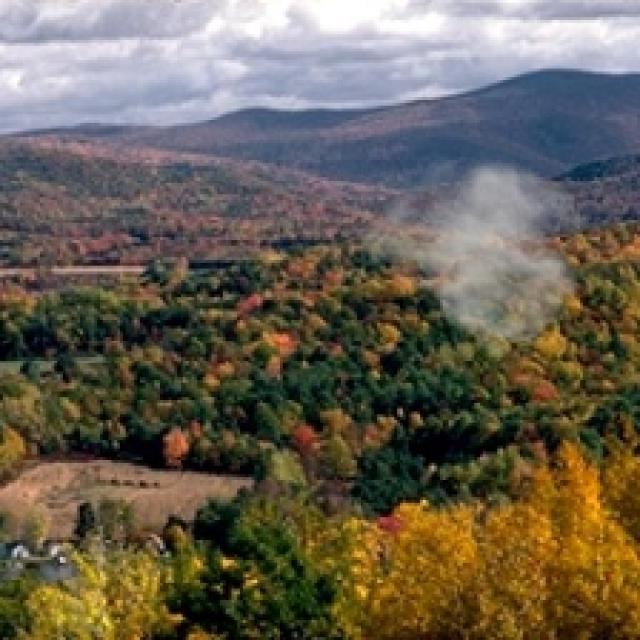Smoke: (340, 151, 603, 360)
